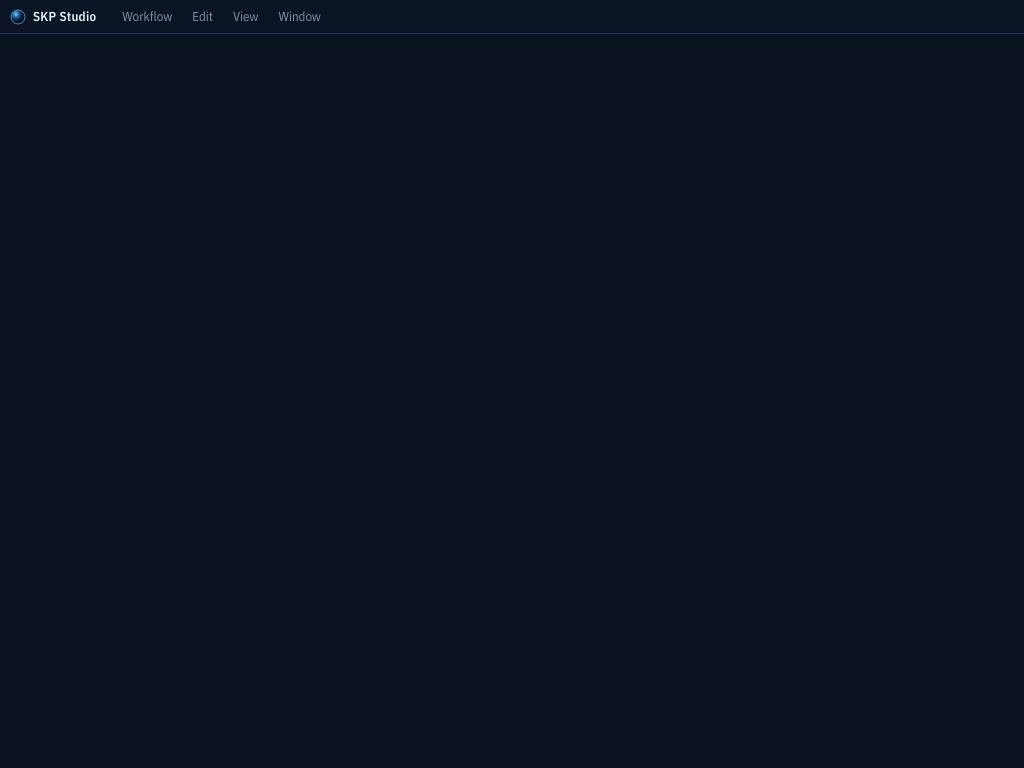
it: App › says in the picker why the list could not be read
Step 1. Click the menu item "Workflow" → [147, 16], box [112,2,182,31]
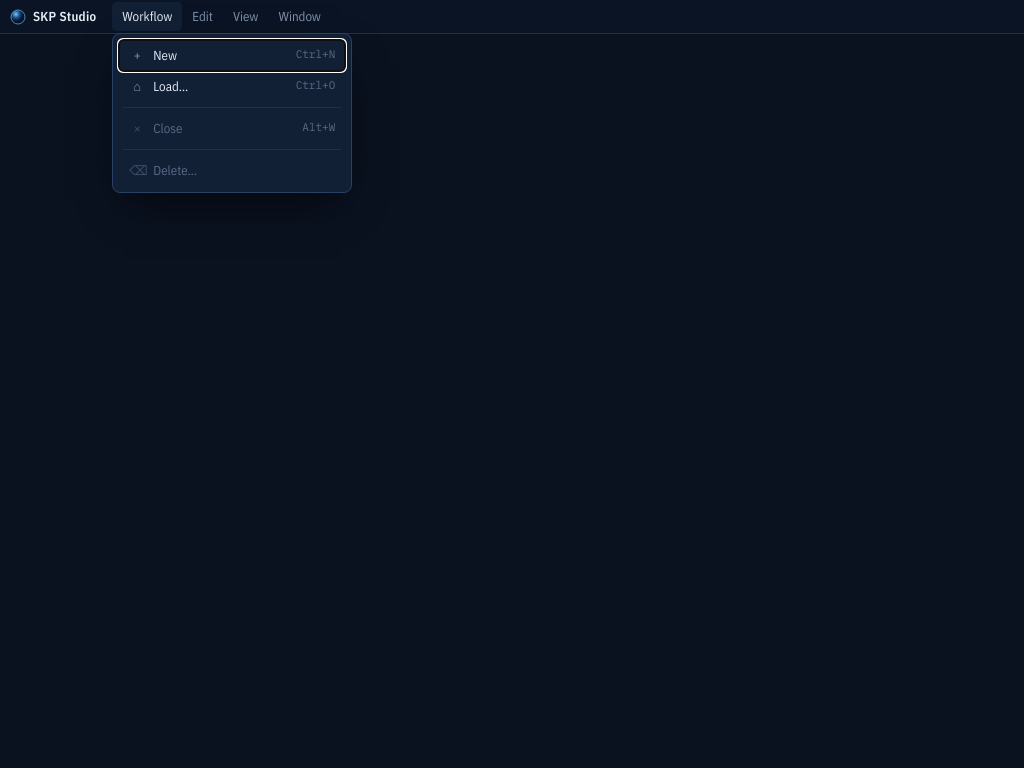
Step 2. Click the menu item "⌂ Load… Ctrl+O" → [171, 86], box [133,78,335,95]
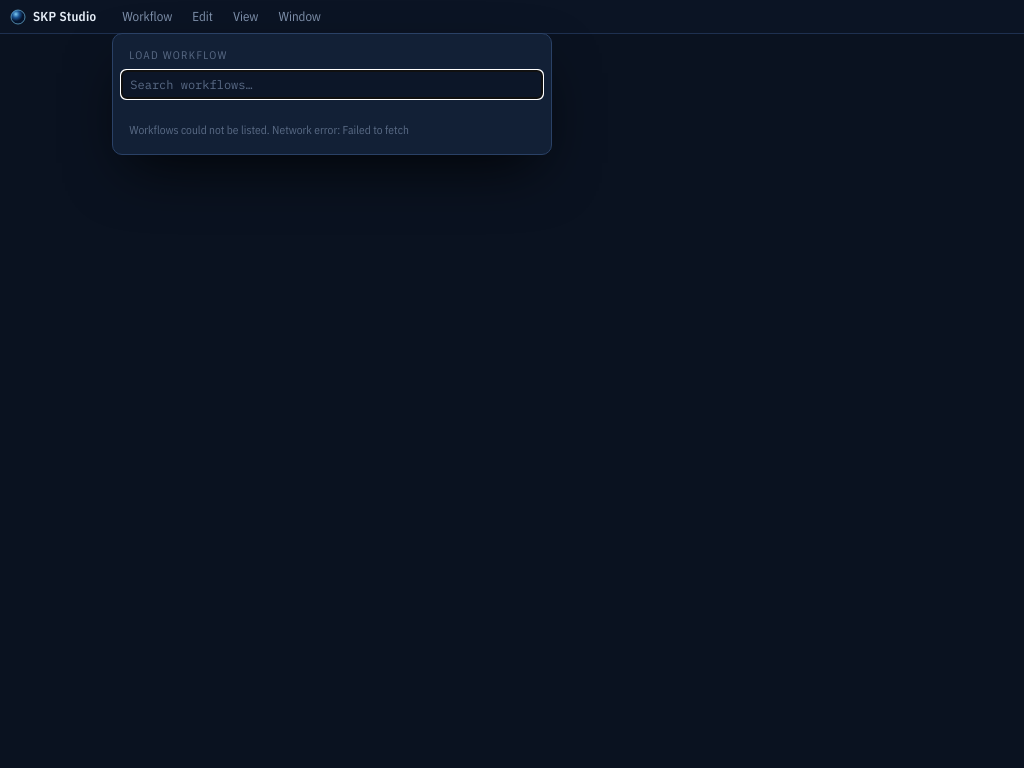
Result: the text "Workflows could not be listed. Network error: Failed to fetch" is shown at [129,122,409,137]
